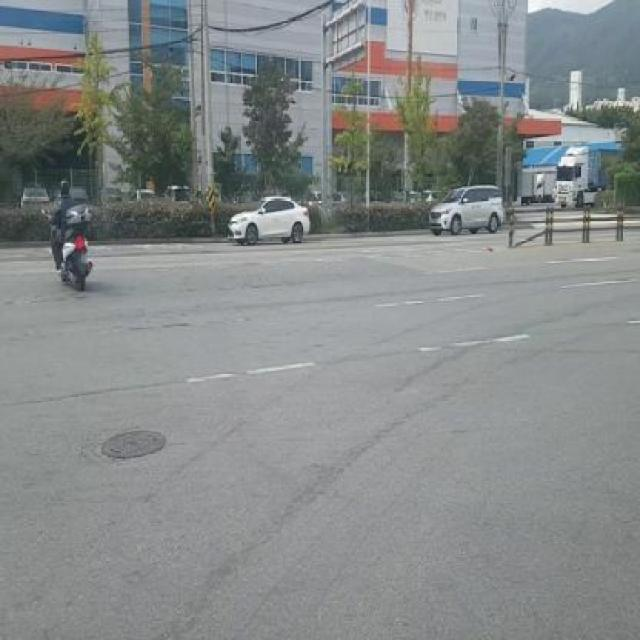Manhole: (100, 431, 168, 460), (508, 204, 550, 248)
